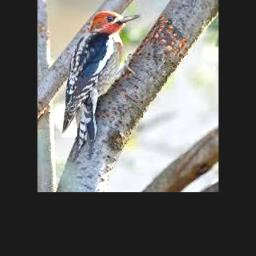Woodpecker: (62, 11, 141, 161)
